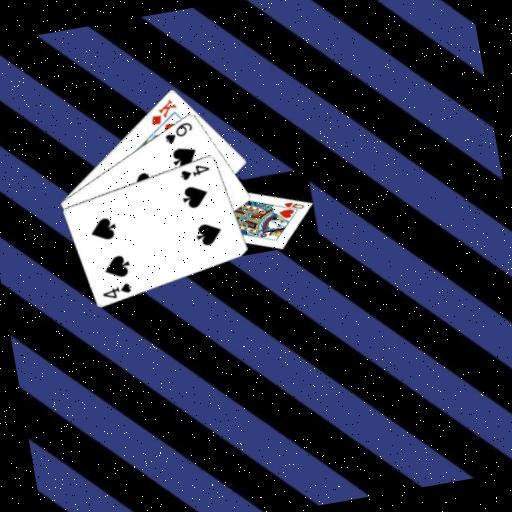4S: (98, 278, 134, 302), (176, 159, 212, 182)
6S: (159, 118, 196, 147)
KD: (144, 94, 181, 127)
